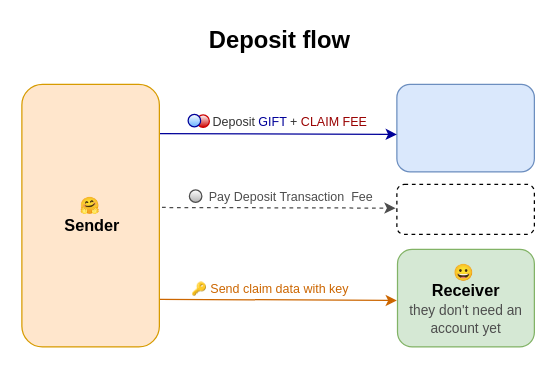
This 556x369 diagram has some shape labels left out. The shapes that lost their labels are listed below. From the top down, each one's centre as x and y in pixels, then its label:
At [465,127]: "🔒 Escrow Account".
At [465,208]: "Starknet Sequencer".
